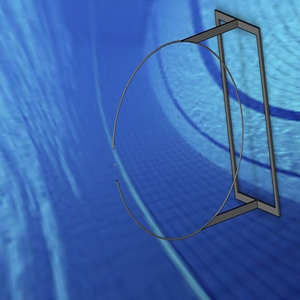circle: (109, 40, 245, 242), (211, 10, 281, 216)
